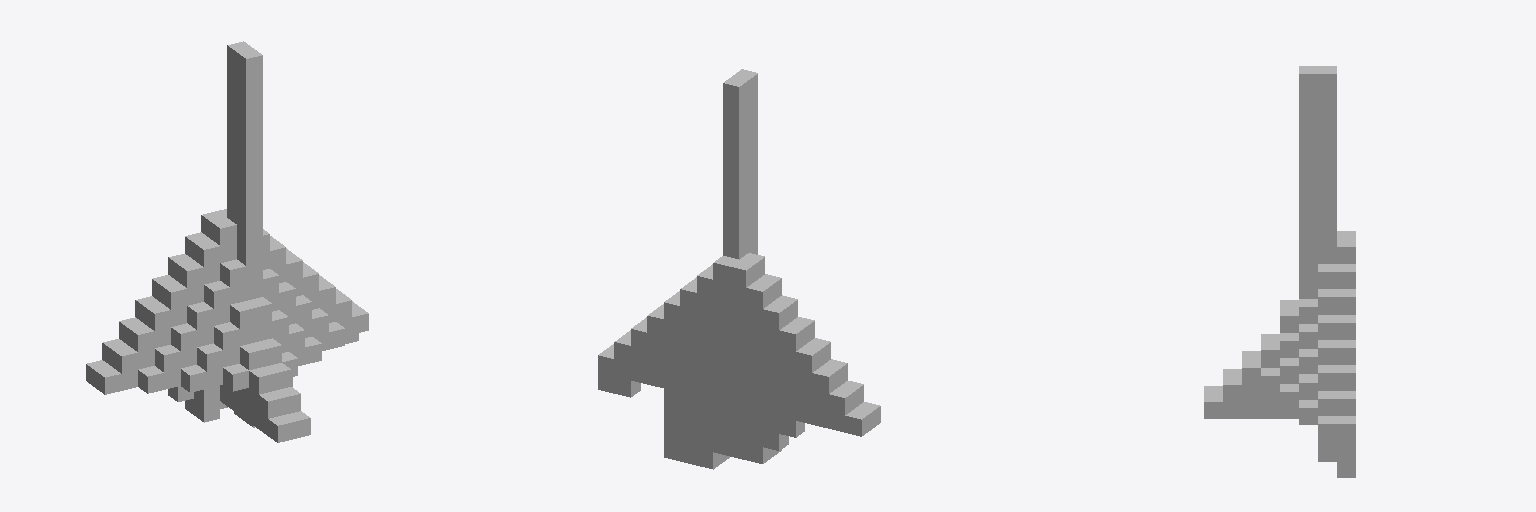
File: Schalter Gefängnis 3.obj
3 views of the same model, side by side, from view 1: azimuth 30°, elevation 25°; view 2: azimuth 150°, elevation 25°; view 3: azimuth 270°, elevation 25° (orthographic).
Size of the model in its own units: 16 by 22 by 8.